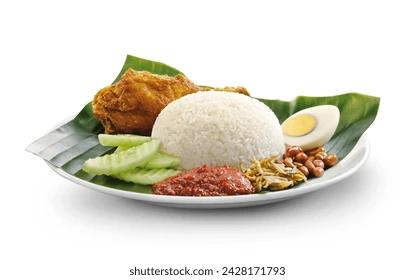Anchovies: (243, 154, 308, 193)
Boiled-Egg: (281, 105, 340, 151)
Cucumber: (82, 134, 181, 185)
Fried-Chicken: (93, 68, 251, 138)
Peanuts: (284, 146, 339, 179)
Rice: (152, 92, 285, 172)
Sambal: (151, 166, 253, 196)
